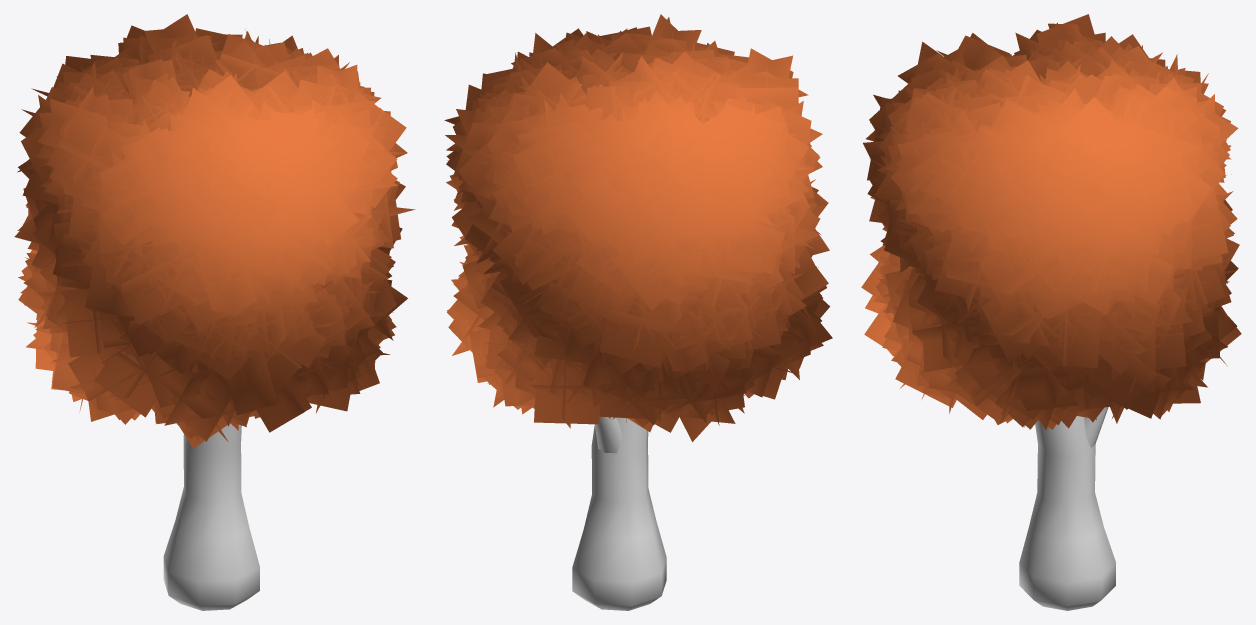
File: SM_Tree_12.fbx
3 views of the same model, side by side, from view 1: azimuth 30°, elevation 25°; view 2: azimuth 150°, elevation 25°; view 3: azimuth 270°, elevation 25° (orthographic). The views are drawn at different scales.
Visible parts, largest first — view 1: SM_Tree_12_LOD0; view 2: SM_Tree_12_LOD0; view 3: SM_Tree_12_LOD0.
Boxes of the visible parts, <box> form: SM_Tree_12_LOD0: <box>14,14,415,610</box>; SM_Tree_12_LOD0: <box>444,14,832,610</box>; SM_Tree_12_LOD0: <box>861,14,1241,610</box>.
Size of the model in its own units: 755 by 1111 by 734.
